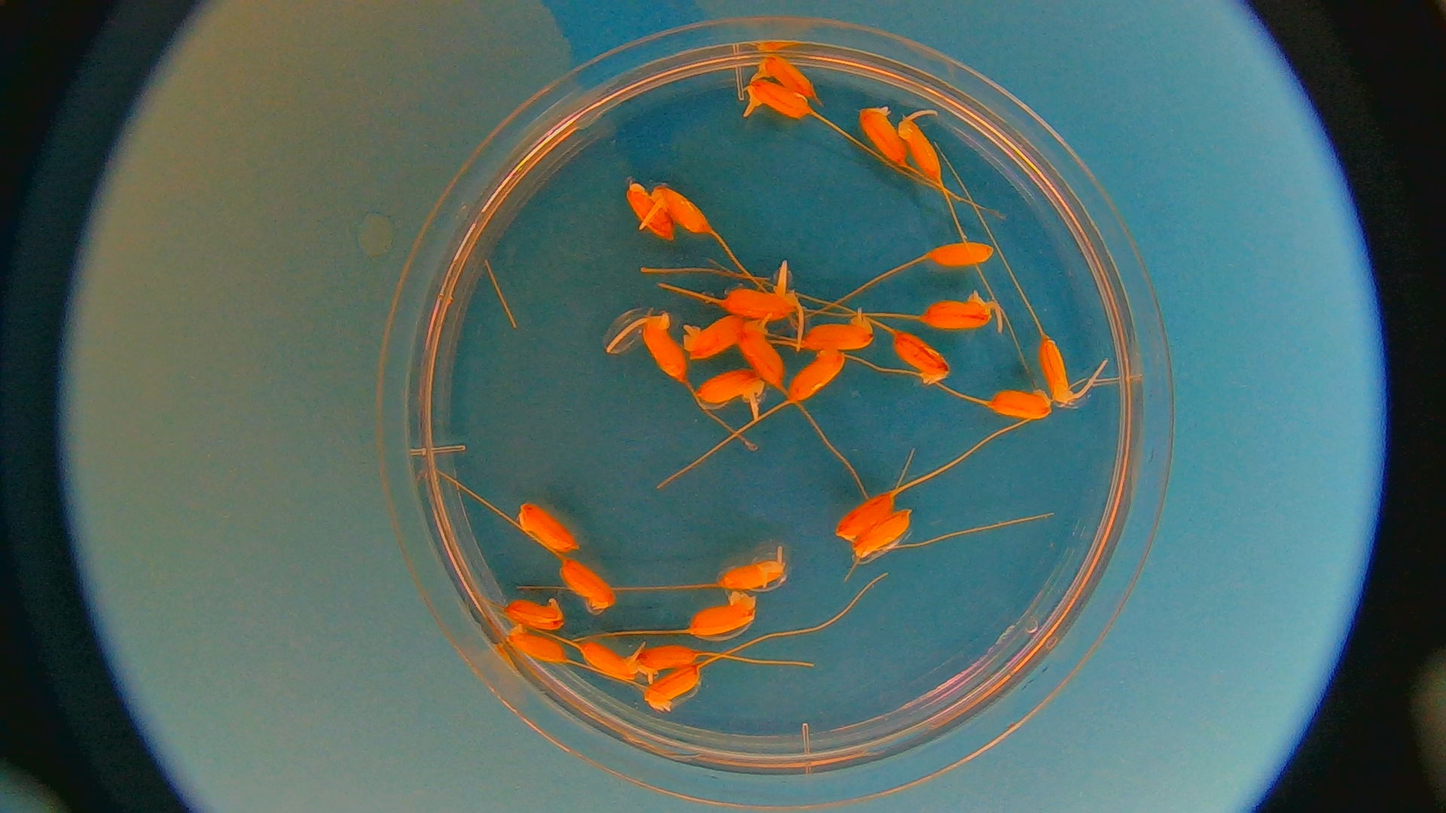no: (688, 589, 758, 638), (517, 501, 579, 553), (835, 489, 895, 542), (786, 349, 844, 401), (562, 557, 616, 611), (895, 332, 950, 385), (858, 106, 905, 166), (645, 663, 702, 711), (626, 184, 673, 242), (853, 510, 908, 556), (504, 598, 566, 631), (987, 390, 1054, 420), (507, 632, 569, 663), (929, 242, 995, 266)
yes: (797, 313, 873, 356), (898, 114, 942, 187), (635, 318, 685, 382), (751, 52, 819, 99), (740, 78, 810, 120), (695, 370, 765, 410), (722, 282, 794, 320), (650, 187, 709, 232), (921, 297, 993, 333), (580, 640, 647, 678), (743, 322, 782, 386), (685, 315, 743, 358), (718, 556, 783, 589), (1039, 338, 1072, 403), (639, 646, 700, 674)
